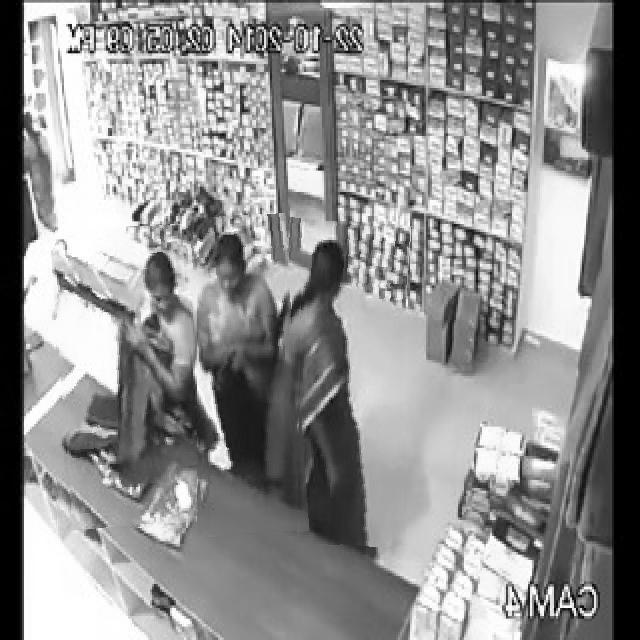normal: (273, 219, 406, 546), (55, 227, 197, 529), (191, 214, 302, 536)
